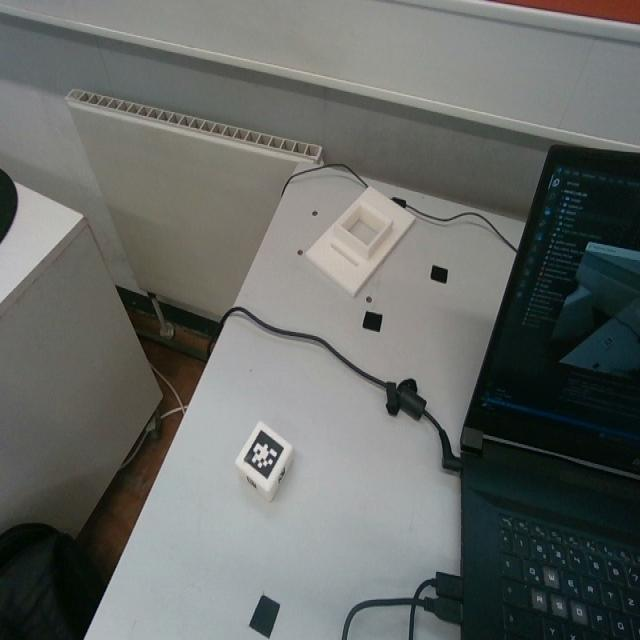Cube: (234, 420, 295, 500)
